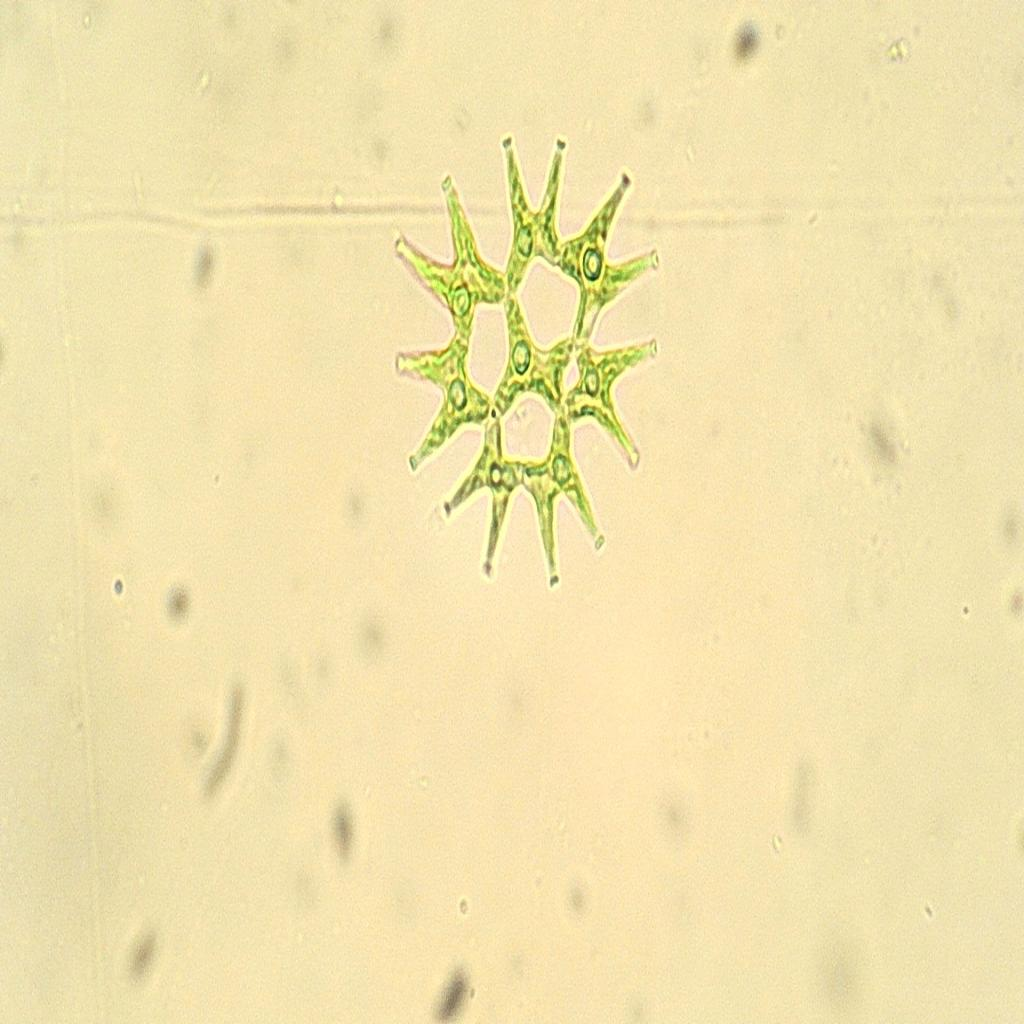Pediastrum_CTH: (366, 130, 692, 604)
